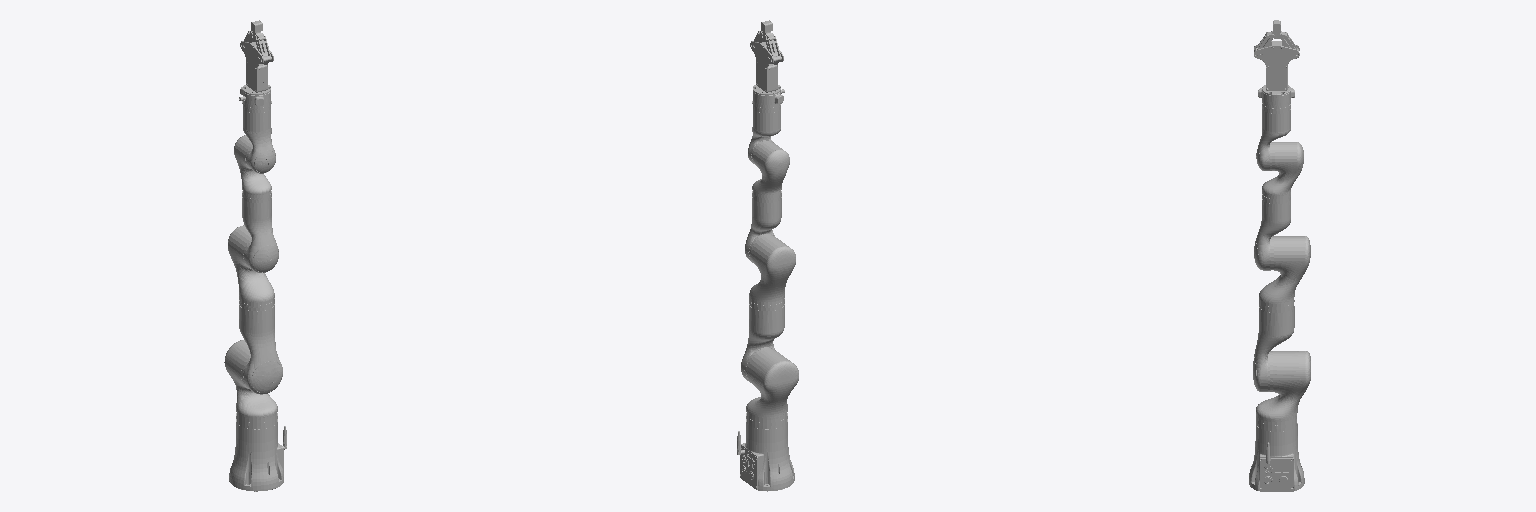
The robot description file, URDF, robot "RM65B_EG24C2_description":
<?xml version="1.0" encoding="utf-8"?>
<!-- This URDF was automatically created by SolidWorks to URDF Exporter! Originally created by [author] ([email redacted]) 
     Commit Version: 1.6.0-1-g15f4949  Build Version: 1.6.7594.29634
     For more information, please see http://wiki.ros.org/sw_urdf_exporter -->
<robot
  name="RM65B_EG24C2_description">
  <link
    name="base_link">
    <inertial>
      <origin
        xyz="-0.00043263 -3.2791E-05 0.059984"
        rpy="0 0 0" />
      <mass
        value="0.84048" />
      <inertia
        ixx="0.001724"
        ixy="2.4863E-06"
        ixz="-3.6767E-05"
        iyy="0.0017077"
        iyz="1.7187E-06"
        izz="0.00090401" />
    </inertial>
    <visual>
      <origin
        xyz="0 0 0"
        rpy="0 0 0" />
      <geometry>
        <mesh
          filename="package://RM65B_EG24C2_description/DAE/base_link.dae" />
      </geometry>
      <material
        name="">
        <color
          rgba="0.75294 0.75294 0.75294 1" />
      </material>
    </visual>
    <collision>
      <origin
        xyz="0 0 0"
        rpy="0 0 0" />
      <geometry>
        <mesh
          filename="package://RM65B_EG24C2_description/DAE/base_link.dae" />
      </geometry>
    </collision>
  </link>
  <link
    name="Link_1">
    <inertial>
      <origin
        xyz="1.4674E-07 0.021109 -0.025186"
        rpy="0 0 0" />
      <mass
        value="0.59356" />
      <inertia
        ixx="0.0012661"
        ixy="-1.2311E-08"
        ixz="-1.0059E-08"
        iyy="0.0011817"
        iyz="-0.00021122"
        izz="0.00056135" />
    </inertial>
    <visual>
      <origin
        xyz="0 0 0"
        rpy="0 0 0" />
      <geometry>
        <mesh
          filename="package://RM65B_EG24C2_description/DAE/Link_1.dae" />
      </geometry>
      <material
        name="">
        <color
          rgba="0.75294 0.75294 0.75294 1" />
      </material>
    </visual>
    <collision>
      <origin
        xyz="0 0 0"
        rpy="0 0 0" />
      <geometry>
        <mesh
          filename="package://RM65B_EG24C2_description/DAE/Link_1.dae" />
      </geometry>
    </collision>
  </link>
  <joint
    name="joint_1"
    type="revolute">
    <origin
      xyz="0 0 0.2405"
      rpy="0 0 0" />
    <parent
      link="base_link" />
    <child
      link="Link_1" />
    <axis
      xyz="0 0 1" />
    <limit
      lower="-3.106"
      upper="3.106"
      effort="60"
      velocity="3.14" />
  </joint>
  <link
    name="Link_2">
    <inertial>
      <origin
        xyz="0.15226 4.2499E-07 -0.0062026"
        rpy="0 0 0" />
      <mass
        value="0.86418" />
      <inertia
        ixx="0.00063253"
        ixy="-8.8019E-09"
        ixz="0.00042163"
        iyy="0.0020527"
        iyz="2.3805E-09"
        izz="0.0019528" />
    </inertial>
    <visual>
      <origin
        xyz="0 0 0"
        rpy="0 0 0" />
      <geometry>
        <mesh
          filename="package://RM65B_EG24C2_description/DAE/Link_2.dae" />
      </geometry>
      <material
        name="">
        <color
          rgba="0.75294 0.75294 0.75294 1" />
      </material>
    </visual>
    <collision>
      <origin
        xyz="0 0 0"
        rpy="0 0 0" />
      <geometry>
        <mesh
          filename="package://RM65B_EG24C2_description/DAE/Link_2.dae" />
      </geometry>
    </collision>
  </link>
  <joint
    name="joint_2"
    type="revolute">
    <origin
      xyz="0 0 0"
      rpy="1.5708 -1.5708 0" />
    <parent
      link="Link_1" />
    <child
      link="Link_2" />
    <axis
      xyz="0 0 1" />
    <limit
      lower="-2.269"
      upper="2.269"
      effort="60"
      velocity="3.14" />
  </joint>
  <link
    name="Link_3">
    <inertial>
      <origin
        xyz="4.8002E-06 -0.059593 0.010569"
        rpy="0 0 0" />
      <mass
        value="0.28965" />
      <inertia
        ixx="0.00063737"
        ixy="-5.9731E-08"
        ixz="-3.331E-08"
        iyy="0.00015649"
        iyz="-0.00014461"
        izz="0.00061418" />
    </inertial>
    <visual>
      <origin
        xyz="0 0 0"
        rpy="0 0 0" />
      <geometry>
        <mesh
          filename="package://RM65B_EG24C2_description/DAE/Link_3.dae" />
      </geometry>
      <material
        name="">
        <color
          rgba="0.75294 0.75294 0.75294 1" />
      </material>
    </visual>
    <collision>
      <origin
        xyz="0 0 0"
        rpy="0 0 0" />
      <geometry>
        <mesh
          filename="package://RM65B_EG24C2_description/DAE/Link_3.dae" />
      </geometry>
    </collision>
  </link>
  <joint
    name="joint_3"
    type="revolute">
    <origin
      xyz="0.256 0 0"
      rpy="0 0 1.5708" />
    <parent
      link="Link_2" />
    <child
      link="Link_3" />
    <axis
      xyz="0 0 1" />
    <limit
      lower="-2.356"
      upper="2.356"
      effort="30"
      velocity="3.14" />
  </joint>
  <link
    name="Link_4">
    <inertial>
      <origin
        xyz="2.1531E-06 -0.018042 -0.021539"
        rpy="0 0 0" />
      <mass
        value="0.23942" />
      <inertia
        ixx="0.00028594"
        ixy="2.854E-09"
        ixz="-1.9595E-09"
        iyy="0.00026273"
        iyz="4.4237E-05"
        izz="0.00011989" />
    </inertial>
    <visual>
      <origin
        xyz="0 0 0"
        rpy="0 0 0" />
      <geometry>
        <mesh
          filename="package://RM65B_EG24C2_description/DAE/Link_4.dae" />
      </geometry>
      <material
        name="">
        <color
          rgba="0.75294 0.75294 0.75294 1" />
      </material>
    </visual>
    <collision>
      <origin
        xyz="0 0 0"
        rpy="0 0 0" />
      <geometry>
        <mesh
          filename="package://RM65B_EG24C2_description/DAE/Link_4.dae" />
      </geometry>
    </collision>
  </link>
  <joint
    name="joint_4"
    type="revolute">
    <origin
      xyz="0 -0.21 0"
      rpy="1.5708 0 0" />
    <parent
      link="Link_3" />
    <child
      link="Link_4" />
    <axis
      xyz="0 0 1" />
    <limit
      lower="-3.106"
      upper="3.106"
      effort="10"
      velocity="3.14" />
  </joint>
  <link
    name="Link_5">
    <inertial>
      <origin
        xyz="4.5765E-06 -0.059382 0.0073678"
        rpy="0 0 0" />
      <mass
        value="0.21879" />
      <inertia
        ixx="0.00035053"
        ixy="-3.1704E-08"
        ixz="-1.7465E-08"
        iyy="0.00010492"
        iyz="-7.824E-05"
        izz="0.00033447" />
    </inertial>
    <visual>
      <origin
        xyz="0 0 0"
        rpy="0 0 0" />
      <geometry>
        <mesh
          filename="package://RM65B_EG24C2_description/DAE/Link_5.dae" />
      </geometry>
      <material
        name="">
        <color
          rgba="0.75294 0.75294 0.75294 1" />
      </material>
    </visual>
    <collision>
      <origin
        xyz="0 0 0"
        rpy="0 0 0" />
      <geometry>
        <mesh
          filename="package://RM65B_EG24C2_description/DAE/Link_5.dae" />
      </geometry>
    </collision>
  </link>
  <joint
    name="joint_5"
    type="revolute">
    <origin
      xyz="0 0 0"
      rpy="-1.5708 0 0" />
    <parent
      link="Link_4" />
    <child
      link="Link_5" />
    <axis
      xyz="0 0 1" />
    <limit
      lower="-2.234"
      upper="2.234"
      effort="10"
      velocity="3.14" />
  </joint>
  <link
    name="Link_6">
    <inertial>
      <origin
        xyz="0.00081643 1.3298E-05 -0.012705"
        rpy="0 0 0" />
      <mass
        value="0.065035" />
      <inertia
        ixx="2.1143E-05"
        ixy="-2.2878E-08"
        ixz="-2.5601E-08"
        iyy="1.811E-05"
        iyz="-1.0178E-08"
        izz="3.19E-05" />
    </inertial>
    <visual>
      <origin
        xyz="0 0 0"
        rpy="0 0 0" />
      <geometry>
        <mesh
          filename="package://RM65B_EG24C2_description/DAE/Link_6.dae" />
      </geometry>
      <material
        name="">
        <color
          rgba="0.75294 0.75294 0.75294 1" />
      </material>
    </visual>
    <collision>
      <origin
        xyz="0 0 0"
        rpy="0 0 0" />
      <geometry>
        <mesh
          filename="package://RM65B_EG24C2_description/DAE/Link_6.dae" />
      </geometry>
    </collision>
  </link>
  <joint
    name="joint_6"
    type="revolute">
    <origin
      xyz="0 -0.144 0"
      rpy="1.5708 0 0" />
    <parent
      link="Link_5" />
    <child
      link="Link_6" />
    <axis
      xyz="0 0 1" />
    <limit
      lower="-6.28"
      upper="6.28"
      effort="10"
      velocity="3.14" />
  </joint>
  
  
<!--   夹爪部分  -->
  <link
    name="gripper_base_link">
    <inertial>
      <origin
        xyz="-6.7908E-06 -3.0546E-06 0.038387"
        rpy="0 0 0" />
      <mass
        value="0.07993" />
      <inertia
        ixx="6.2249E-05"
        ixy="-5.6831E-09"
        ixz="-4.5401E-09"
        iyy="5.235E-05"
        iyz="-2.0297E-08"
        izz="2.2082E-05" />
    </inertial>
    <visual>
      <origin
        xyz="0 0 0"
        rpy="0 0 0" />
      <geometry>
        <mesh
          filename="package://RM65B_EG24C2_description/DAE/gripper_base_link.dae" />
      </geometry>
      <material
        name="">
        <color
          rgba="0.75294 0.75294 0.75294 1" />
      </material>
    </visual>
    <collision>
      <origin
        xyz="0 0 0"
        rpy="0 0 0" />
      <geometry>
        <mesh
          filename="package://RM65B_EG24C2_description/DAE/gripper_base_link.dae" />
      </geometry>
    </collision>
  </link>
  <joint
    name="gripper_base_joint"
    type="fixed">
    <origin
      xyz="0 0 -0.001"
      rpy="0 0 0" />
    <parent
      link="Link_6" />
    <child
      link="gripper_base_link" />
    <axis
      xyz="0 0 0" />
  </joint>
  <link
    name="Link_7">
    <inertial>
      <origin
        xyz="0.009 -0.0087669 0.013992"
        rpy="0 0 0" />
      <mass
        value="0.0024292" />
      <inertia
        ixx="5.7398E-07"
        ixy="8.6673E-19"
        ixz="-1.3659E-18"
        iyy="5.1061E-07"
        iyz="2.508E-07"
        izz="2.6747E-07" />
    </inertial>
    <visual>
      <origin
        xyz="0 0 0"
        rpy="0 0 0" />
      <geometry>
        <mesh
          filename="package://RM65B_EG24C2_description/DAE/Link_7.dae" />
      </geometry>
      <material
        name="">
        <color
          rgba="0.75294 0.75294 0.75294 1" />
      </material>
    </visual>
    <collision>
      <origin
        xyz="0 0 0"
        rpy="0 0 0" />
      <geometry>
        <mesh
          filename="package://RM65B_EG24C2_description/DAE/Link_7.dae" />
      </geometry>
    </collision>
  </link>
  <joint
    name="gripper_joint"
    type="revolute">
    <origin
      xyz="-0.009 0.04 0.083"
      rpy="0 0 0" />
    <parent
      link="gripper_base_link" />
    <child
      link="Link_7" />
    <axis
      xyz="-1 0 0" />
    <limit
      lower="0"
      upper="0.82"
      effort="1"
      velocity="1" />
  </joint>
  <link
    name="Link_11">
    <inertial>
      <origin
        xyz="0.009 -0.011864 0.011367"
        rpy="0 0 0" />
      <mass
        value="0.0045068" />
      <inertia
        ixx="5.3203E-07"
        ixy="9.5605E-14"
        ixz="-5.8579E-14"
        iyy="5.1288E-07"
        iyz="9.4703E-08"
        izz="2.009E-07" />
    </inertial>
    <visual>
      <origin
        xyz="0 0 0"
        rpy="0 0 0" />
      <geometry>
        <mesh
          filename="package://RM65B_EG24C2_description/DAE/Link_11.dae" />
      </geometry>
      <material
        name="">
        <color
          rgba="0.75294 0.75294 0.75294 1" />
      </material>
    </visual>
    <collision>
      <origin
        xyz="0 0 0"
        rpy="0 0 0" />
      <geometry>
        <mesh
          filename="package://RM65B_EG24C2_description/DAE/Link_11.dae" />
      </geometry>
    </collision>
  </link>
  <joint
    name="joint_11"
    type="revolute">
    <origin
      xyz="0 -0.0223 0.035591"
      rpy="0 0 0" />
    <parent
      link="Link_7" />
    <child
      link="Link_11" />
    <axis
      xyz="1 0 0" />
    <limit
      lower="0"
      upper="0.82"
      effort="1"
      velocity="1" />
    <mimic joint="gripper_joint" multiplier="1"  offset="0"/>
  </joint>
  <link
    name="Link_8">
    <inertial>
      <origin
        xyz="0.009 -0.0087435 0.013955"
        rpy="0 0 0" />
      <mass
        value="0.0038971" />
      <inertia
        ixx="6.2305E-07"
        ixy="1.0706E-18"
        ixz="-1.6842E-18"
        iyy="5.6941E-07"
        iyz="2.6891E-07"
        izz="3.0871E-07" />
    </inertial>
    <visual>
      <origin
        xyz="0 0 0"
        rpy="0 0 0" />
      <geometry>
        <mesh
          filename="package://RM65B_EG24C2_description/DAE/Link_8.dae" />
      </geometry>
      <material
        name="">
        <color
          rgba="0.75294 0.75294 0.75294 1" />
      </material>
    </visual>
    <collision>
      <origin
        xyz="0 0 0"
        rpy="0 0 0" />
      <geometry>
        <mesh
          filename="package://RM65B_EG24C2_description/DAE/Link_8.dae" />
      </geometry>
    </collision>
  </link>
  <joint
    name="joint_8"
    type="revolute">
    <origin
      xyz="-0.009 0.03 0.085"
      rpy="0 0 0" />
    <parent
      link="gripper_base_link" />
    <child
      link="Link_8" />
    <axis
      xyz="-1 0 0" />
    <limit
      lower="0"
      upper="0.82"
      effort="1"
      velocity="1" />
    <mimic joint="gripper_joint" multiplier="1"  offset="0"/>
  </joint>
  <link
    name="Link_9">
    <inertial>
      <origin
        xyz="0.009 0.0087435 0.013955"
        rpy="0 0 0" />
      <mass
        value="0.0038971" />
      <inertia
        ixx="6.2305E-07"
        ixy="-1.0655E-18"
        ixz="-1.8021E-18"
        iyy="5.6941E-07"
        iyz="-2.6891E-07"
        izz="3.0871E-07" />
    </inertial>
    <visual>
      <origin
        xyz="0 0 0"
        rpy="0 0 0" />
      <geometry>
        <mesh
          filename="package://RM65B_EG24C2_description/DAE/Link_9.dae" />
      </geometry>
      <material
        name="">
        <color
          rgba="0.75294 0.75294 0.75294 1" />
      </material>
    </visual>
    <collision>
      <origin
        xyz="0 0 0"
        rpy="0 0 0" />
      <geometry>
        <mesh
          filename="package://RM65B_EG24C2_description/DAE/Link_9.dae" />
      </geometry>
    </collision>
  </link>
  <joint
    name="joint_9"
    type="revolute">
    <origin
      xyz="-0.009 -0.03 0.085"
      rpy="0 0 0" />
    <parent
      link="gripper_base_link" />
    <child
      link="Link_9" />
    <axis
      xyz="-1 0 0" />
    <limit
      lower="-0.82"
      upper="0"
      effort="1"
      velocity="1" />
    <mimic joint="gripper_joint" multiplier="-1"  offset="0"/>
  </joint>
  <link
    name="Link_10">
    <inertial>
      <origin
        xyz="0.009 0.0087669 0.013992"
        rpy="0 0 0" />
      <mass
        value="0.0024292" />
      <inertia
        ixx="5.7398E-07"
        ixy="9.5542E-19"
        ixz="7.7727E-19"
        iyy="5.1061E-07"
        iyz="-2.508E-07"
        izz="2.6747E-07" />
    </inertial>
    <visual>
      <origin
        xyz="0 0 0"
        rpy="0 0 0" />
      <geometry>
        <mesh
          filename="package://RM65B_EG24C2_description/DAE/Link_10.dae" />
      </geometry>
      <material
        name="">
        <color
          rgba="0.75294 0.75294 0.75294 1" />
      </material>
    </visual>
    <collision>
      <origin
        xyz="0 0 0"
        rpy="0 0 0" />
      <geometry>
        <mesh
          filename="package://RM65B_EG24C2_description/DAE/Link_10.dae" />
      </geometry>
    </collision>
  </link>
  <joint
    name="joint_10"
    type="revolute">
    <origin
      xyz="-0.009 -0.04 0.083"
      rpy="0 0 0" />
    <parent
      link="gripper_base_link" />
    <child
      link="Link_10" />
    <axis
      xyz="-1 0 0" />
    <limit
      lower="-0.82"
      upper="0"
      effort="1"
      velocity="1" />
    <mimic joint="gripper_joint" multiplier="-1"  offset="0"/>
  </joint>
  <link
    name="Link_12">
    <inertial>
      <origin
        xyz="0.006 0.011864 0.011367"
        rpy="0 0 0" />
      <mass
        value="0.0045068" />
      <inertia
        ixx="5.3203E-07"
        ixy="9.5605E-14"
        ixz="5.8578E-14"
        iyy="5.1288E-07"
        iyz="-9.4703E-08"
        izz="2.009E-07" />
    </inertial>
    <visual>
      <origin
        xyz="0 0 0"
        rpy="0 0 0" />
      <geometry>
        <mesh
          filename="package://RM65B_EG24C2_description/DAE/Link_12.dae" />
      </geometry>
      <material
        name="">
        <color
          rgba="0.75294 0.75294 0.75294 1" />
      </material>
    </visual>
    <collision>
      <origin
        xyz="0 0 0"
        rpy="0 0 0" />
      <geometry>
        <mesh
          filename="package://RM65B_EG24C2_description/DAE/Link_12.dae" />
      </geometry>
    </collision>
  </link>
  <joint
    name="joint_12"
    type="revolute">
    <origin
      xyz="0.003 0.0223 0.035591"
      rpy="0 0 0" />
    <parent
      link="Link_10" />
    <child
      link="Link_12" />
    <axis
      xyz="-1 0 0" />
    <limit
      lower="0"
      upper="0.82"
      effort="1"
      velocity="1" />
    <mimic joint="gripper_joint" multiplier="1"  offset="0"/>
  </joint>
  
  
  
</robot>

--- Render facts (derived) ---
Views: 3 orthographic renders of the robot side by side, from view 1: azimuth 30°, elevation 25°; view 2: azimuth 210°, elevation 25°; view 3: azimuth 270°, elevation 25°.
Robot: RM65B_EG24C2_description — 14 links, 13 joints (12 revolute, 1 fixed); root link base_link; default pose: every joint at zero.
Links seen in each view (by area): view 1: Link_2, base_link, Link_3, Link_1, Link_5, Link_4, gripper_base_link; view 2: Link_2, base_link, Link_1, Link_4, Link_3, gripper_base_link, Link_5; view 3: Link_2, base_link, Link_1, Link_4, Link_3, gripper_base_link, Link_5.
Link boxes in pixels (x1=…): Link_2: x1=228, y1=225, x2=282, y2=394; base_link: x1=229, y1=417, x2=286, y2=491; Link_3: x1=242, y1=194, x2=278, y2=272; Link_1: x1=224, y1=340, x2=277, y2=424; Link_5: x1=243, y1=105, x2=275, y2=173; Link_4: x1=234, y1=135, x2=271, y2=198; gripper_base_link: x1=240, y1=41, x2=273, y2=95; Link_2: x1=741, y1=234, x2=795, y2=380; base_link: x1=737, y1=417, x2=794, y2=491; Link_1: x1=745, y1=347, x2=798, y2=424; Link_4: x1=751, y1=140, x2=789, y2=198; Link_3: x1=745, y1=194, x2=781, y2=262; gripper_base_link: x1=750, y1=41, x2=783, y2=95; Link_5: x1=748, y1=105, x2=780, y2=163; Link_2: x1=1253, y1=236, x2=1310, y2=391; base_link: x1=1249, y1=421, x2=1304, y2=491; Link_1: x1=1256, y1=351, x2=1310, y2=426; Link_4: x1=1262, y1=142, x2=1303, y2=199; Link_3: x1=1254, y1=196, x2=1290, y2=270; gripper_base_link: x1=1254, y1=41, x2=1299, y2=95; Link_5: x1=1256, y1=105, x2=1290, y2=170.
Bounding box of the posed robot: 0.1143 × 0.123 × 0.9966 m (x, y, z).
14 mesh visuals loaded from 14 distinct referenced files (14 Collada DAE).
